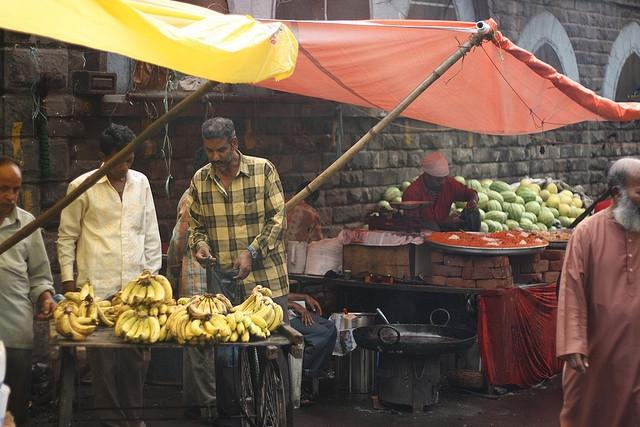banana: (60, 312, 86, 342), (165, 304, 184, 341), (69, 313, 97, 336), (116, 309, 138, 338), (150, 276, 172, 304), (205, 314, 230, 337), (268, 302, 284, 334), (120, 279, 140, 303), (170, 310, 188, 336), (148, 275, 166, 301), (96, 302, 114, 326), (126, 281, 142, 306), (120, 315, 139, 336), (188, 300, 210, 318), (54, 310, 68, 338), (125, 317, 142, 340), (147, 315, 160, 344), (214, 294, 232, 314), (177, 314, 190, 340), (133, 279, 147, 303), (72, 314, 100, 326), (87, 298, 99, 326), (211, 296, 227, 316), (132, 318, 144, 344), (244, 314, 266, 328), (201, 320, 220, 336), (115, 304, 135, 318), (200, 322, 214, 342), (139, 317, 151, 340), (184, 317, 196, 340), (257, 304, 273, 321), (79, 278, 90, 301), (191, 320, 205, 338), (252, 292, 263, 314), (223, 314, 237, 331), (64, 292, 82, 305), (78, 298, 91, 316), (208, 295, 220, 314), (266, 308, 276, 329), (242, 300, 255, 312), (252, 305, 267, 315), (230, 328, 240, 343), (242, 315, 252, 330), (233, 311, 244, 324), (197, 298, 207, 312), (158, 313, 167, 328), (96, 300, 112, 308), (111, 296, 123, 306), (237, 322, 246, 335), (241, 328, 249, 342), (249, 322, 257, 336), (204, 298, 211, 314), (159, 304, 168, 316), (178, 297, 190, 305), (150, 307, 158, 317), (258, 332, 266, 340), (198, 340, 208, 346), (108, 310, 116, 314)
watermelon: (537, 210, 555, 228), (486, 190, 504, 207), (484, 210, 505, 224), (383, 186, 401, 202), (516, 190, 536, 204), (508, 202, 522, 222), (524, 200, 541, 216), (490, 180, 512, 192), (499, 190, 517, 204), (476, 192, 488, 211), (482, 219, 497, 233), (558, 204, 572, 218), (546, 196, 560, 210), (487, 199, 502, 212), (518, 218, 534, 230), (468, 180, 483, 192), (558, 216, 572, 228), (376, 200, 392, 210), (522, 211, 534, 224), (480, 178, 493, 190), (506, 219, 520, 230), (548, 207, 560, 219), (560, 196, 572, 207), (453, 176, 466, 186), (526, 184, 542, 192), (540, 190, 550, 202), (560, 190, 574, 198), (572, 197, 582, 208), (400, 182, 411, 192), (516, 196, 526, 207), (494, 220, 503, 232), (520, 177, 531, 186), (392, 208, 403, 216), (457, 201, 468, 209), (481, 221, 489, 232), (531, 223, 540, 231), (390, 197, 402, 203), (410, 176, 420, 183), (501, 224, 509, 231), (548, 226, 558, 231), (554, 218, 561, 224), (532, 190, 539, 196), (574, 194, 580, 198), (582, 208, 586, 212)
